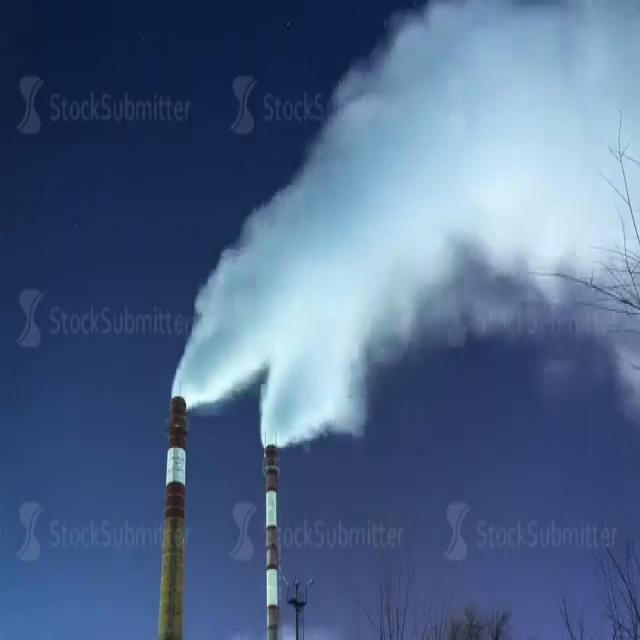smoke: (171, 0, 640, 450)
